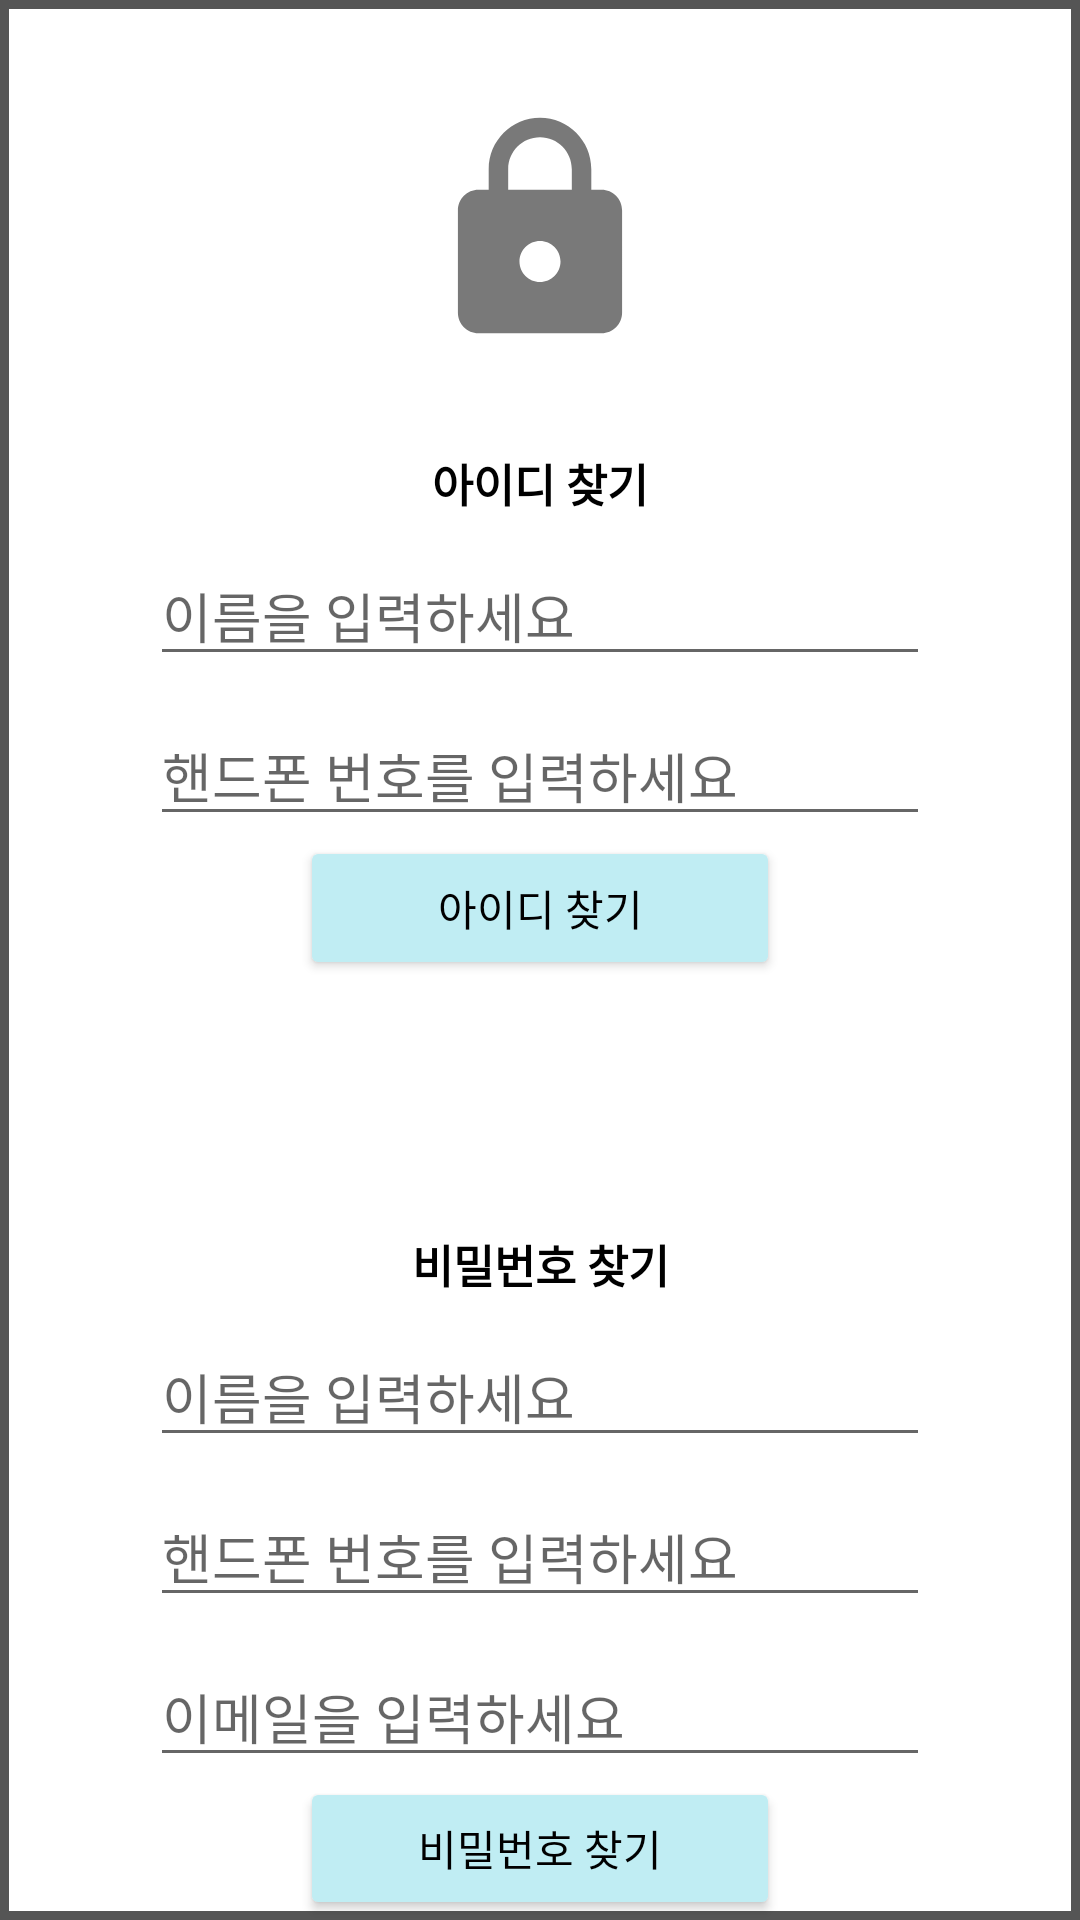

Locate icon controls on the screen. Image size 1080w x 1920h, boxes as (x1, y1, x2, y2).
lock: (458, 117, 622, 334)
